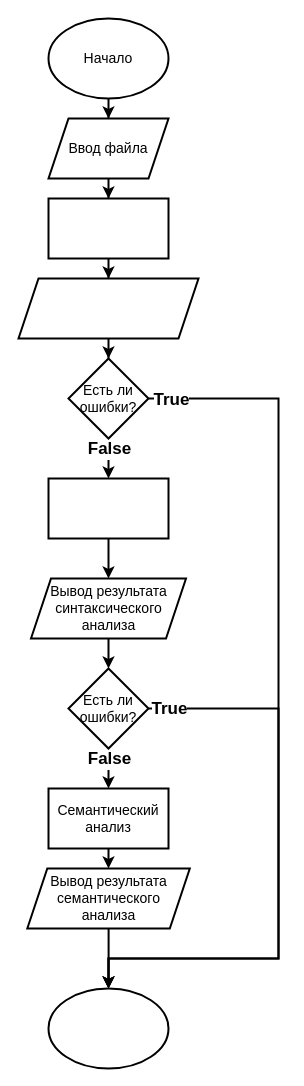
This 304x1086 diagram has some shape labels left out. Each missing label, with the box of its shape:
Вывод результата лексического анализа: (17, 277, 199, 339)
Конец: (47, 987, 169, 1069)
Лексический анлиз: (47, 197, 169, 259)
Синтаксический анализ: (47, 477, 169, 539)
